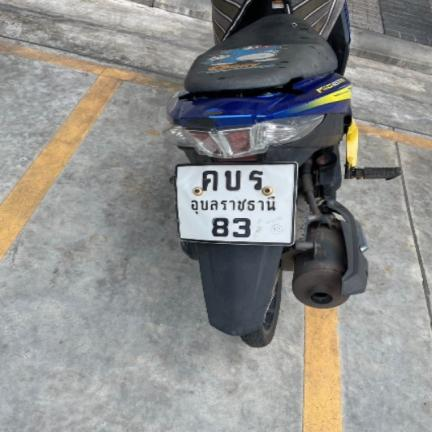3: (232, 217, 252, 238)
8: (209, 216, 230, 238)
A04: (201, 170, 218, 192)
A26: (222, 170, 243, 191)
A35: (247, 170, 265, 192)
UBN: (186, 195, 277, 215)
